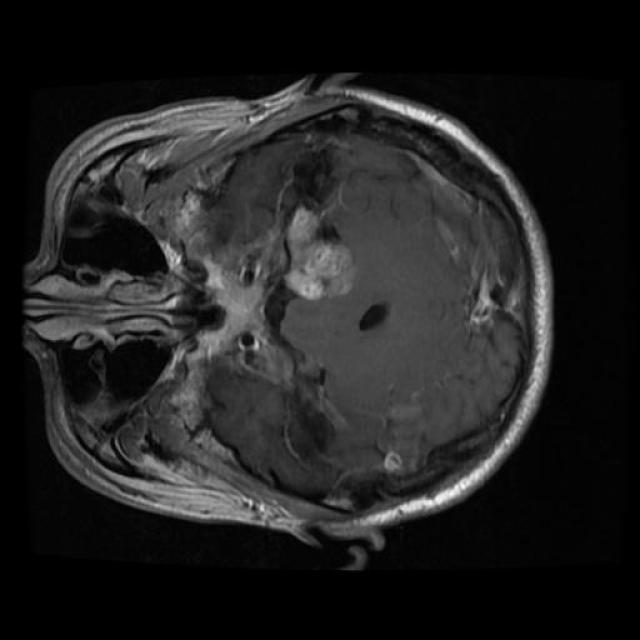Meningioma: (284, 206, 354, 300)
